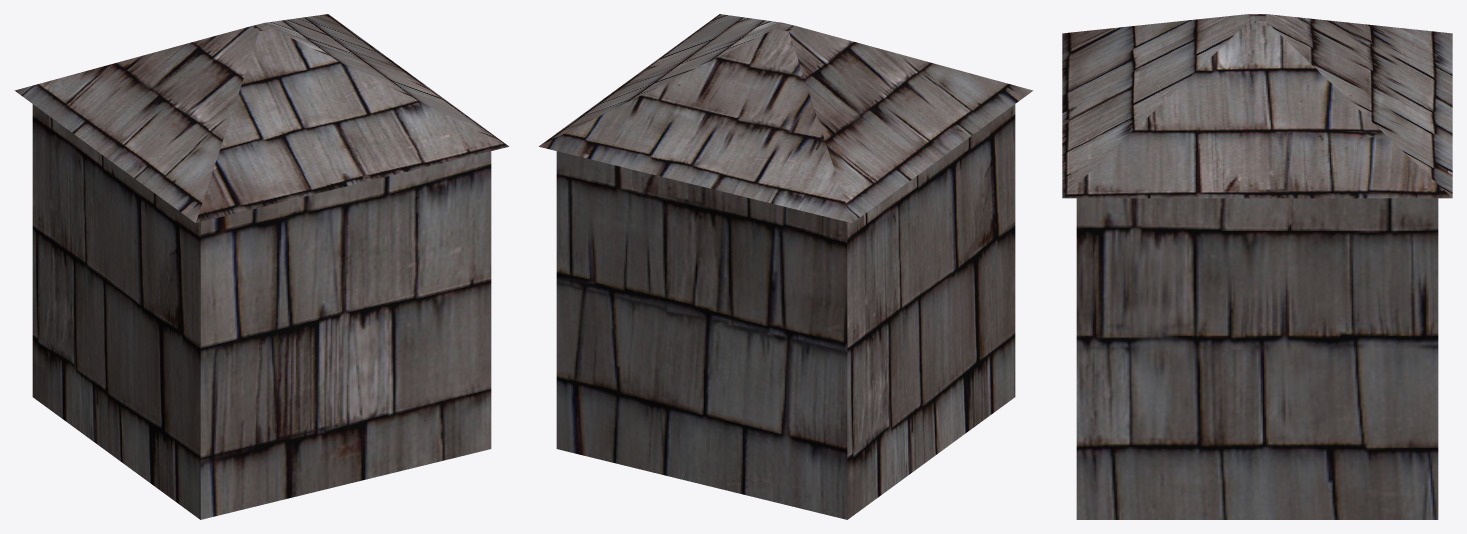
The model's file is Houses_Smallhouse.obj.
3 renders of one model, left to right at view 1: azimuth 30°, elevation 25°; view 2: azimuth 150°, elevation 25°; view 3: azimuth 270°, elevation 25°, orthographic. The views are drawn at different scales.
Visible parts, largest first — view 1: Smallhouse; view 2: Smallhouse; view 3: Smallhouse.
Boxes of the visible parts, box(x1,y1,x2,y2) form: Smallhouse: box(14, 14, 508, 519); Smallhouse: box(539, 14, 1033, 519); Smallhouse: box(1062, 14, 1452, 519).
Bounding box in the file's own units: 53.96 × 65 × 53.97.
